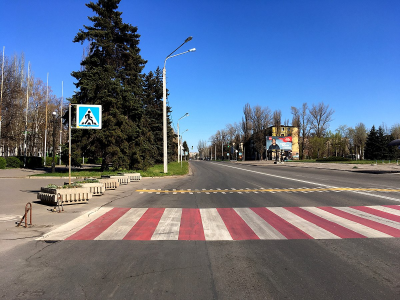crosswalk: (77, 103, 101, 129)
